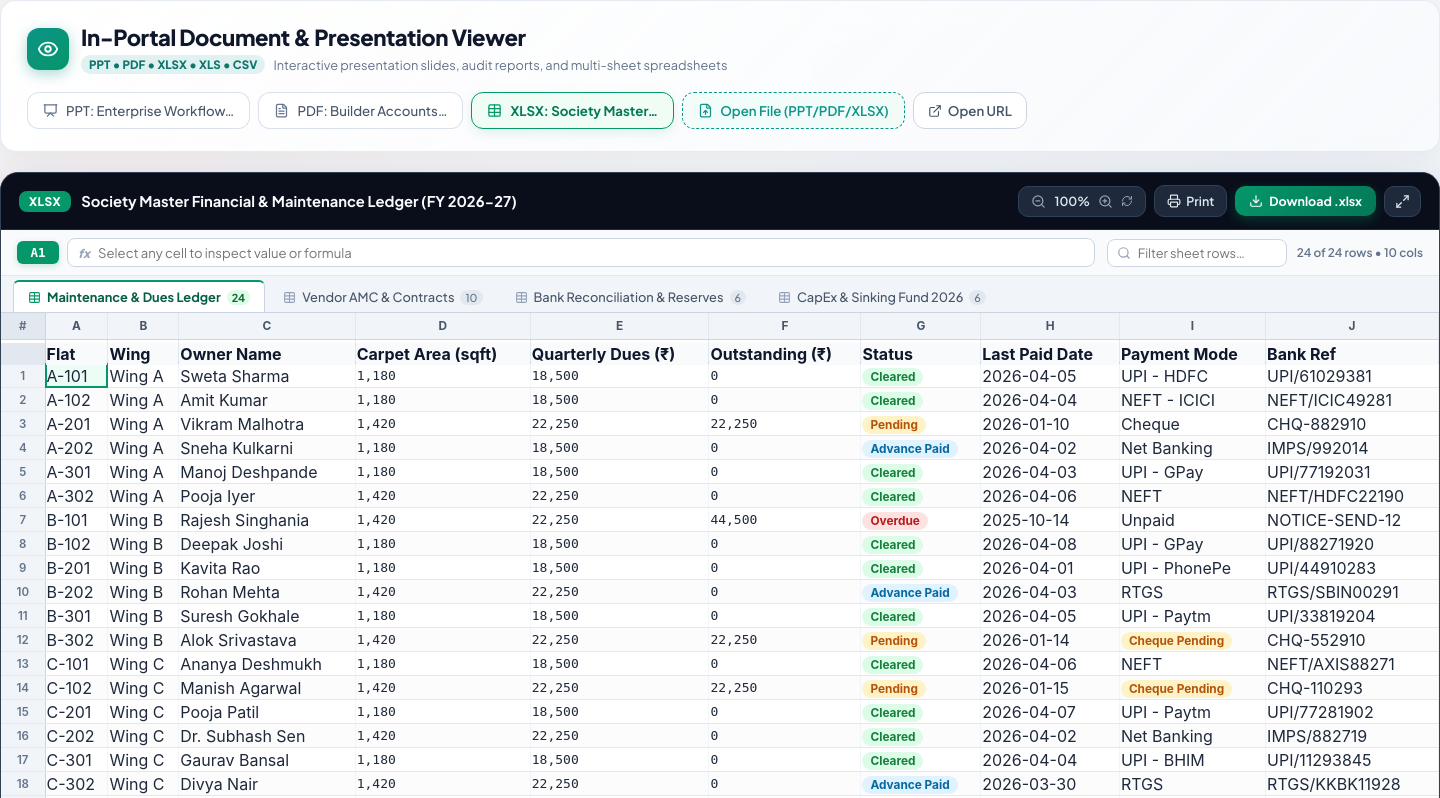
InPortalDocumentViewer Component › filters rows dynamically using the in-sheet search bar
Expected: the text "Sweta Sharma" is shown, [179,363,355,388]
Expected: the text "Vikram Malhotra" is shown, [179,412,355,436]
Step 1. Type "Sweta" into the field with placeholder "Filter sheet rows…" → {"x": 1197, "y": 252}, box [1107,238,1287,266]
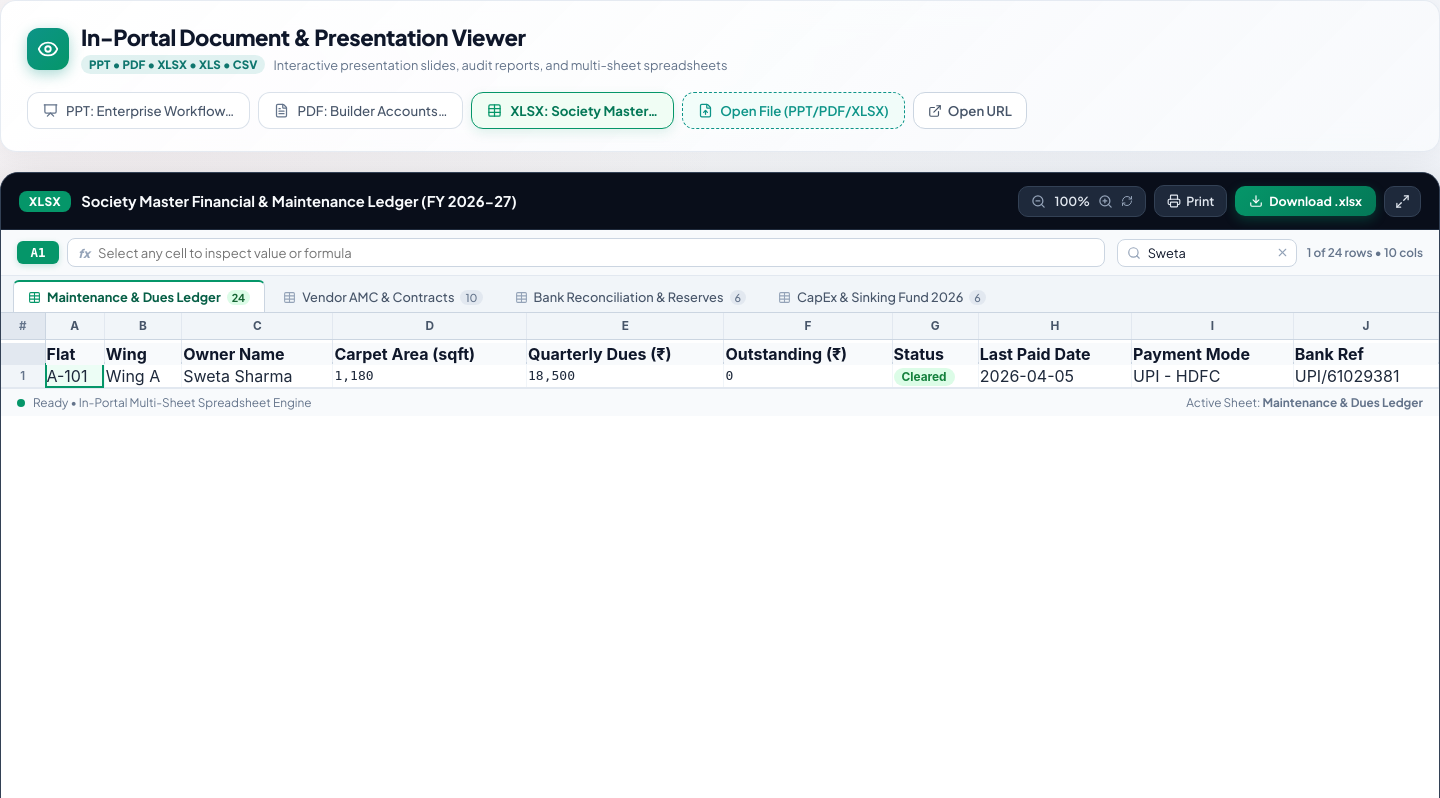
Expected: the text "Sweta Sharma" is shown, [182,363,333,388]
Now the text "Vikram Malhotra" is gone
